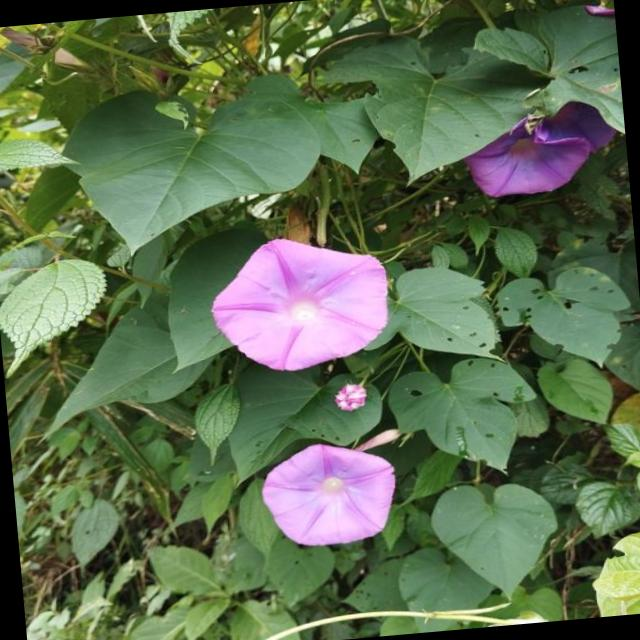ipomoea: (202, 226, 398, 380), (252, 434, 403, 554), (454, 95, 620, 204), (327, 378, 372, 416)
